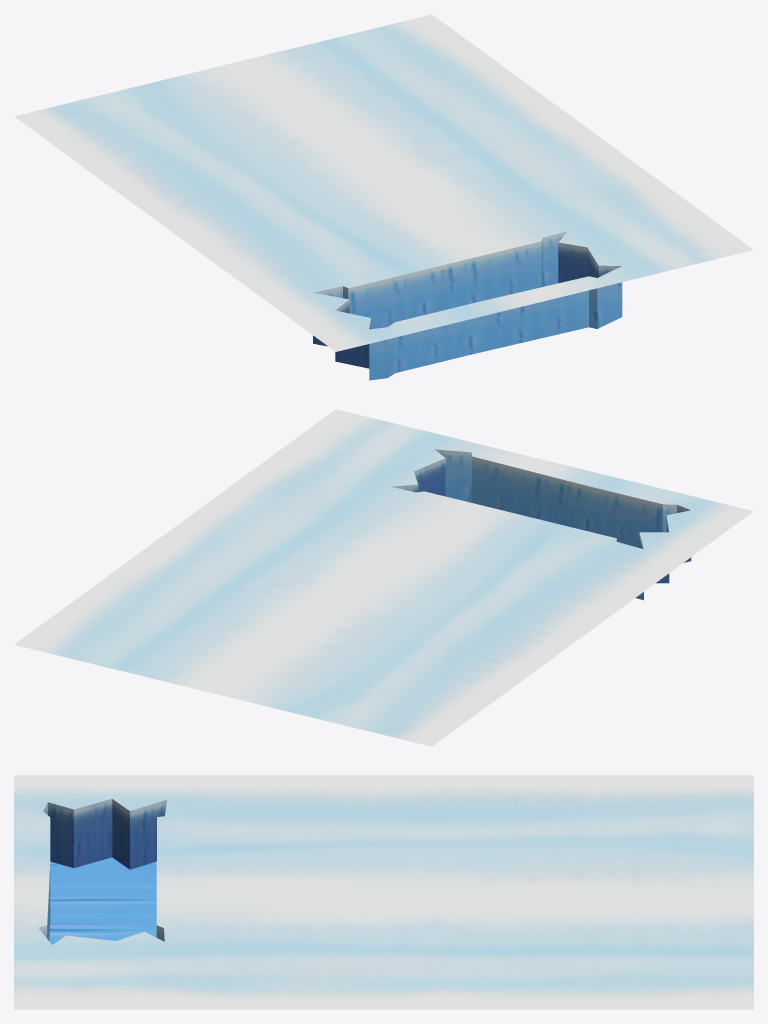
Rendered from Hole_L_Size_05.FBX.
The picture shows the model from 3 angles, top to bottom: view 1: azimuth 30°, elevation 25°; view 2: azimuth 150°, elevation 25°; view 3: azimuth 270°, elevation 25°; orthographic projection. The views are drawn at different scales.
Visible parts, largest first — view 1: Object114; view 2: Object114; view 3: Object114.
Boxes of the visible parts, <box> form: Object114: <box>14,14,753,380</box>; Object114: <box>14,409,753,746</box>; Object114: <box>14,775,753,1009</box>.
Size of the model in its own units: 600 by 70 by 800.
